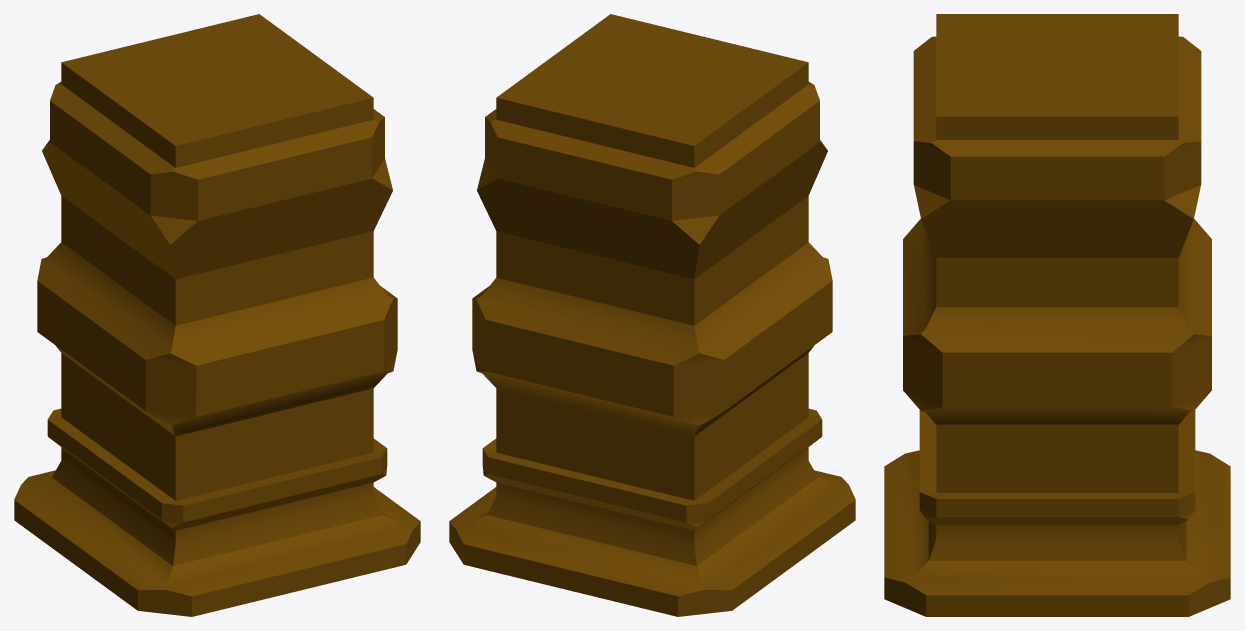
Rendered from Pilar.fbx.
3 views of the same model, side by side, from view 1: azimuth 30°, elevation 25°; view 2: azimuth 150°, elevation 25°; view 3: azimuth 270°, elevation 25° (orthographic). The views are drawn at different scales.
Visible parts, largest first — view 1: pCube1; view 2: pCube1; view 3: pCube1.
Boxes of the visible parts, x1,y1,x2,y2 form: pCube1: [14, 14, 420, 616]; pCube1: [449, 14, 855, 616]; pCube1: [884, 14, 1230, 616].
Bounding box in the file's own units: 9.14 × 13.92 × 9.14.
